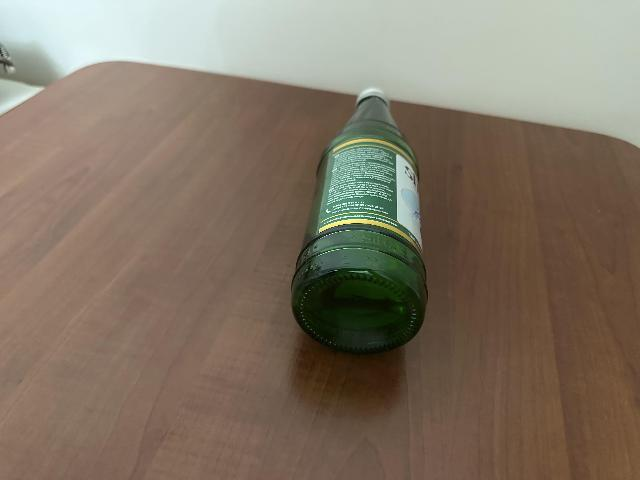Cam: (280, 87, 429, 356)
